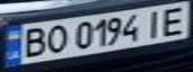0: (72, 19, 93, 51)
1: (90, 16, 109, 47)
4: (121, 11, 145, 43)
9: (106, 15, 127, 45)
B: (15, 25, 51, 58)
E: (157, 2, 193, 37)
I: (139, 7, 169, 38)
O: (39, 22, 69, 54)
